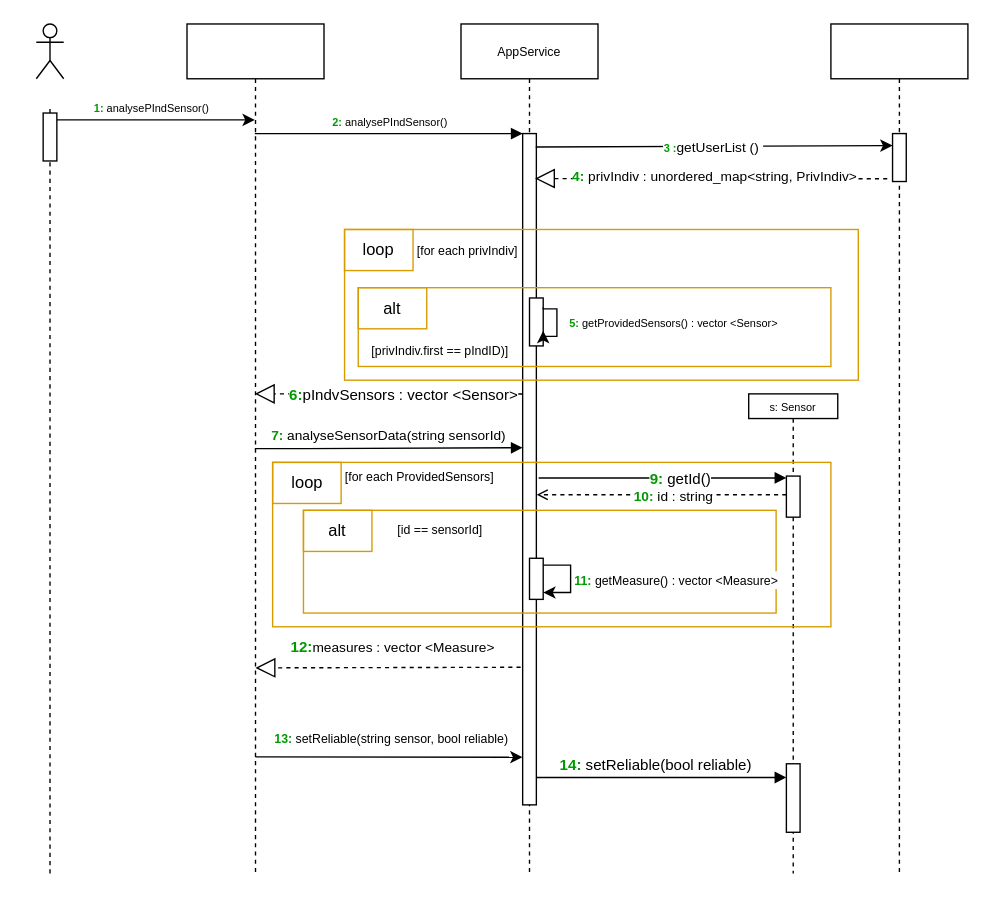
Image size: 992x899. Some labels were removed from this diagram. Here are the shapes that lost their labels. From the top down, the box of each, then its label:
(35, 23, 64, 79): SuperUser
(186, 23, 324, 873): IHM
(830, 23, 968, 873): DataSet
